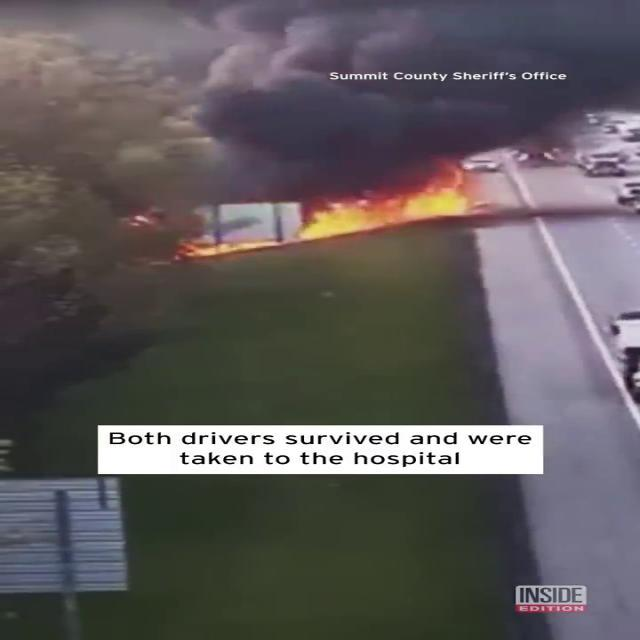Fire: (190, 178, 492, 254)
Smoke: (177, 0, 636, 186)
